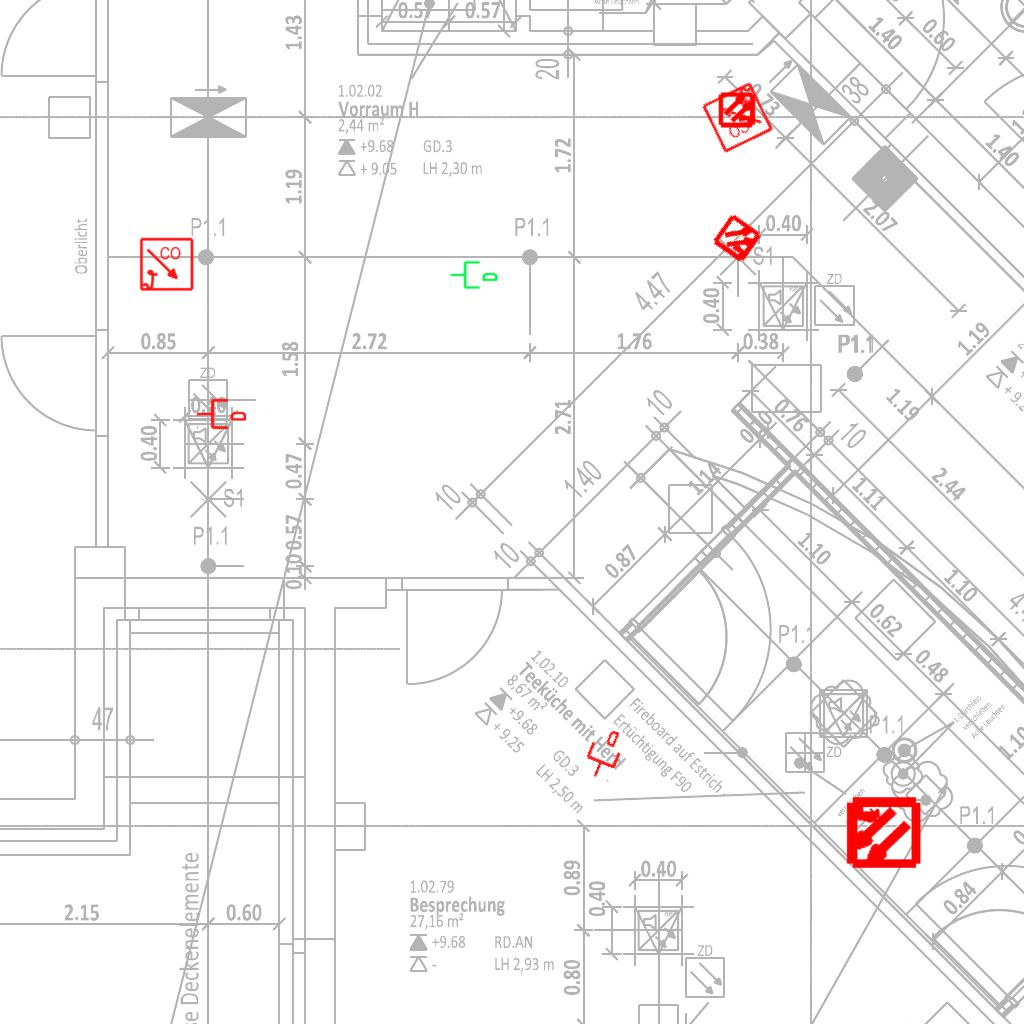Datenanschluss_einfach: (578, 724, 630, 784), (449, 257, 499, 291), (196, 397, 246, 431)
OT_Multisensormelder_(Kombination_RMO_WMD): (825, 776, 938, 889), (699, 200, 777, 278), (710, 82, 766, 138)
ROA_Rauchmelder_optisch_mit_Signalgeber_(Sockelsirene): (699, 79, 775, 155), (139, 237, 195, 293)
